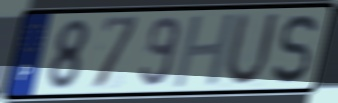7: (90, 14, 142, 92)
8: (45, 17, 91, 92)
9: (137, 15, 181, 89)
H: (170, 11, 239, 91)
S: (269, 12, 320, 86)
U: (221, 11, 282, 90)
